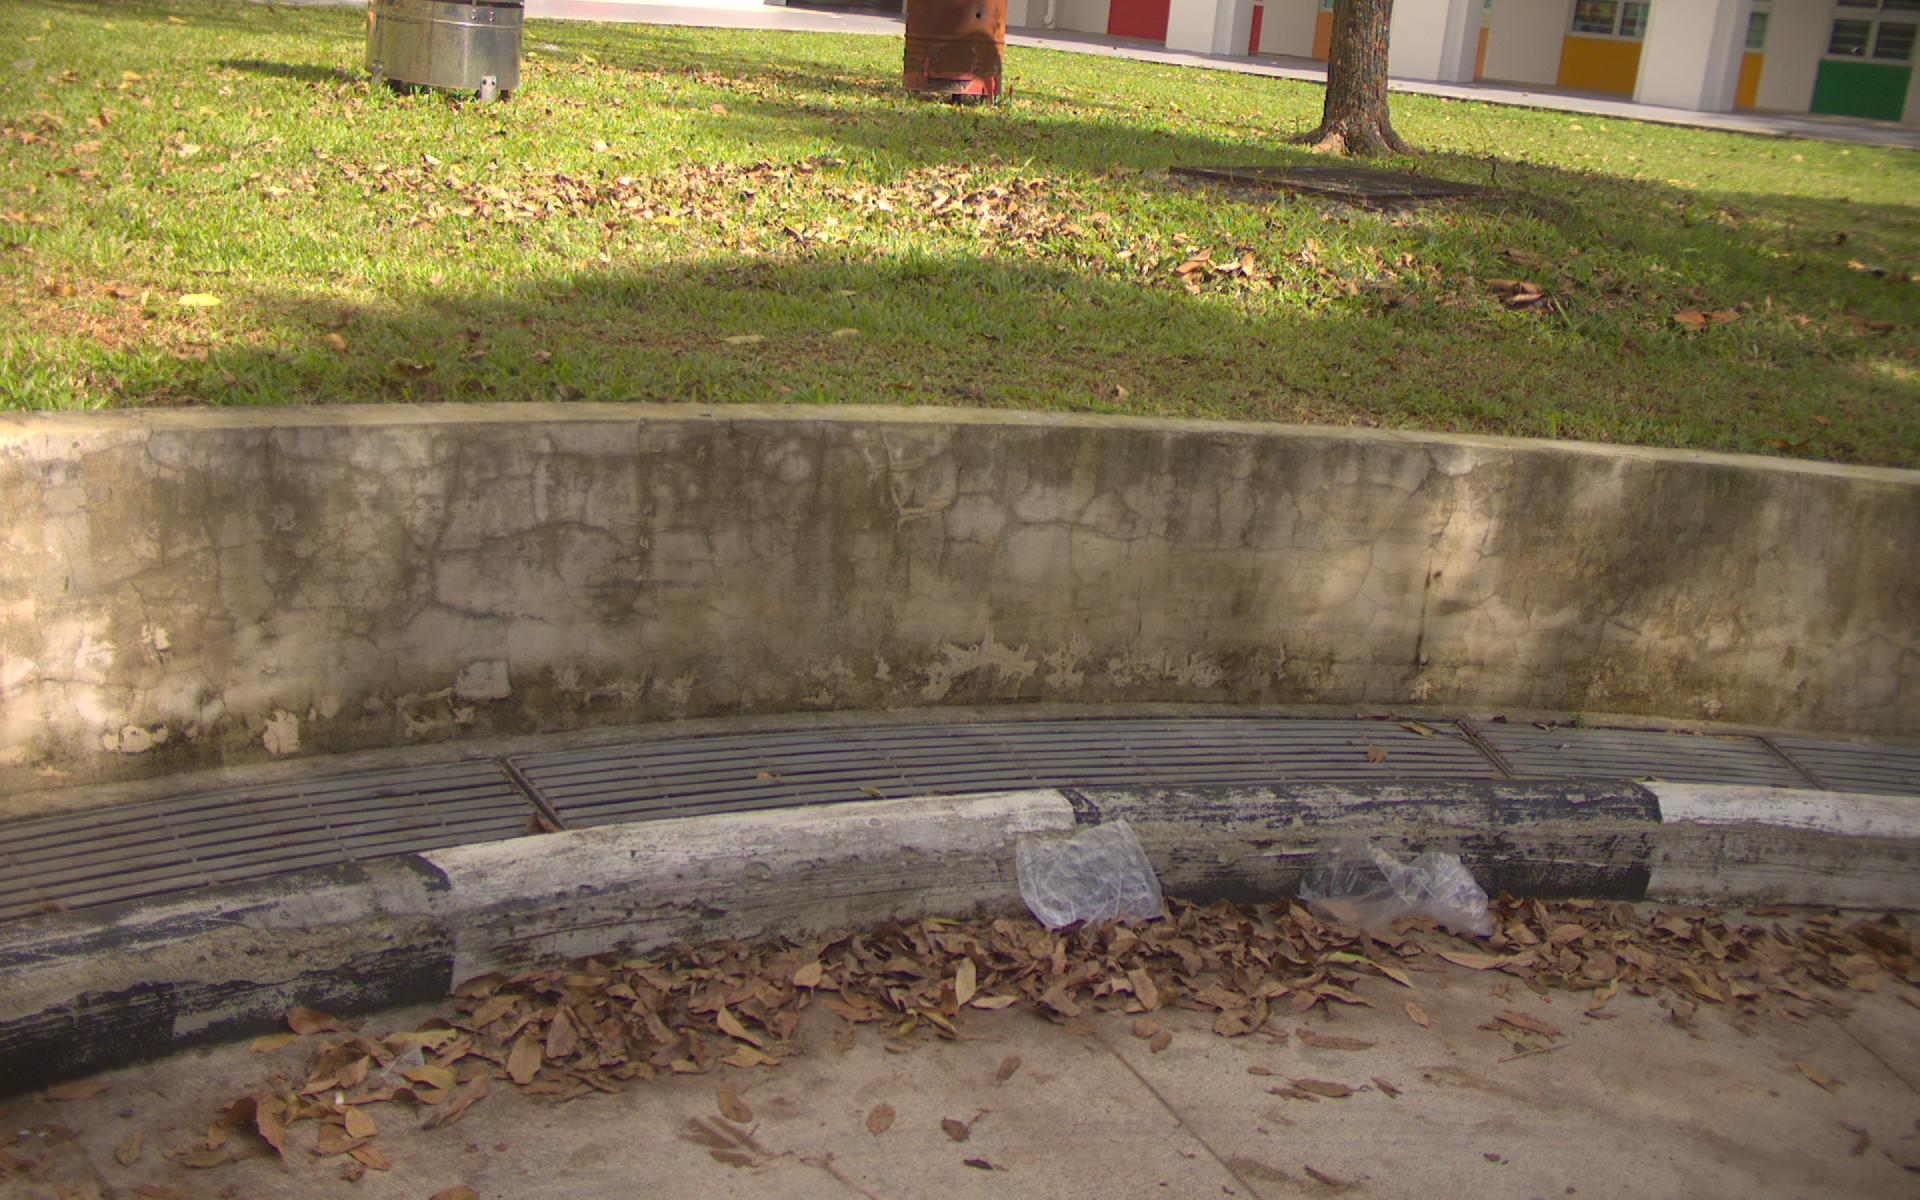curb_grill_low: (14, 718, 1910, 910)
road_curb_medium: (32, 894, 1913, 1188)
road_turf_low: (14, 36, 1901, 467)
